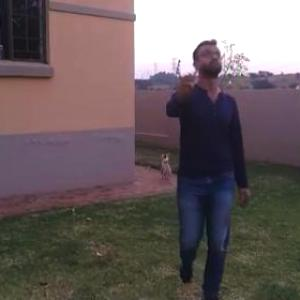takeoff-hand: (170, 65, 195, 102)
